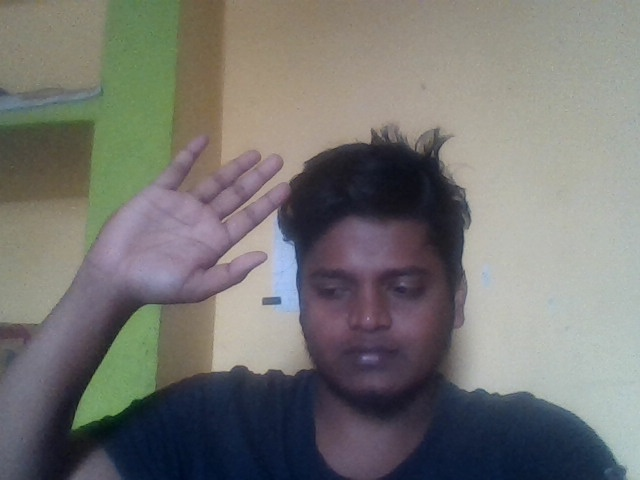Hello: (89, 132, 296, 307)
